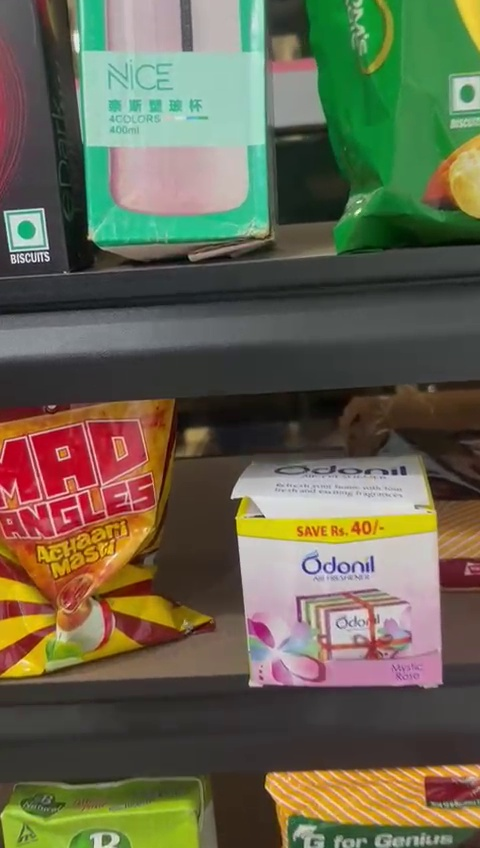Odonil: (240, 461, 440, 690)
